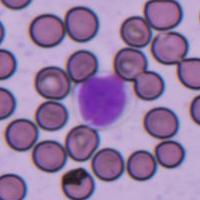L: (74, 71, 128, 130)
